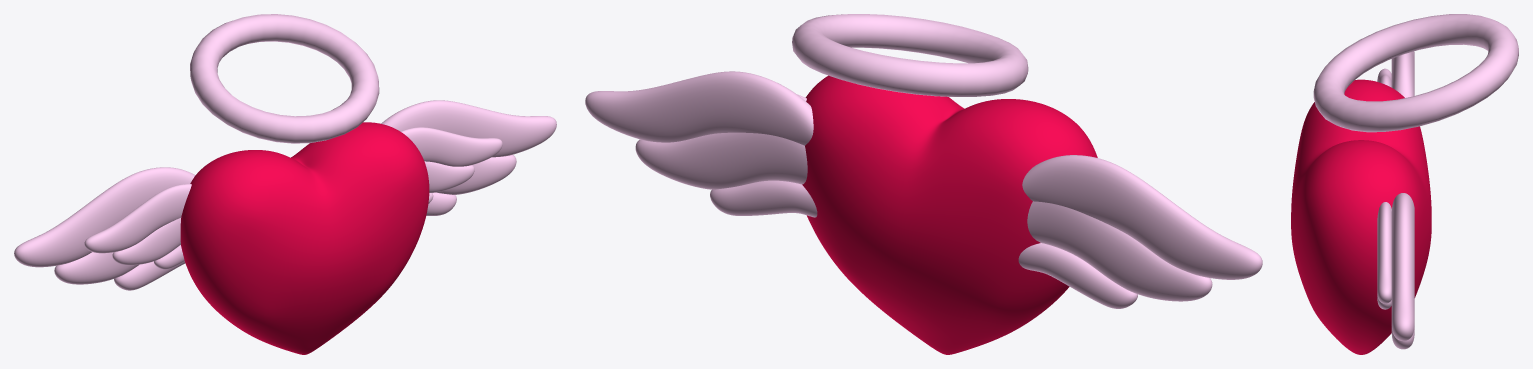
The model's file is Trai tym co canh.glb.
The picture shows the model from 3 angles, left to right: view 1: azimuth 30°, elevation 25°; view 2: azimuth 150°, elevation 25°; view 3: azimuth 270°, elevation 25°; orthographic projection. The views are drawn at different scales.
Parts seen in each view (by area): view 1: Vert.022, Circle.017, Plane.031, Plane.036, Plane.032, Plane.038, Plane.033, Plane.041; view 2: Vert.022, Plane.031, Plane.032, Circle.017, Plane.033; view 3: Vert.022, Circle.017, Plane.031, Plane.036, Plane.032.
Part boxes in pixels (x1,y1,x2,y2): Vert.022: (180,122,429,354); Circle.017: (190,14,379,143); Plane.031: (14,100,556,267); Plane.036: (84,127,502,253); Plane.032: (54,154,516,284); Plane.038: (112,161,474,265); Plane.033: (114,192,456,290); Plane.041: (154,193,433,269); Vert.022: (802,75,1097,354); Plane.031: (585,71,1262,279); Plane.032: (635,132,1212,301); Circle.017: (792,14,1028,96); Plane.033: (710,180,1137,308); Vert.022: (1291,79,1431,354); Circle.017: (1313,14,1518,132); Plane.031: (1391,51,1414,340); Plane.036: (1377,68,1391,303); Plane.032: (1391,326,1414,349).
Size of the model in its own units: 6.58 by 3.34 by 2.16.
